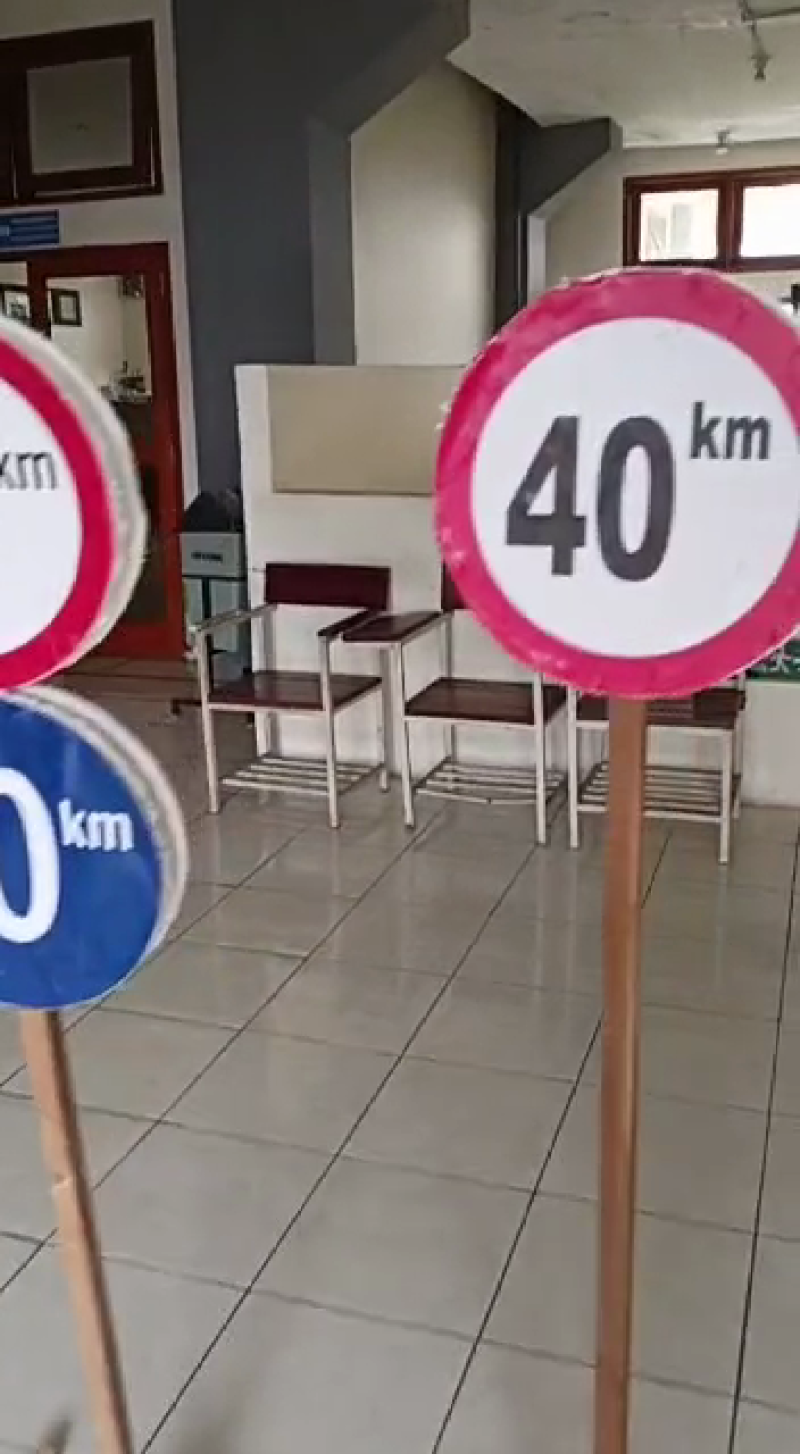batas maksimal 40kmperjam: (421, 263, 800, 705)
